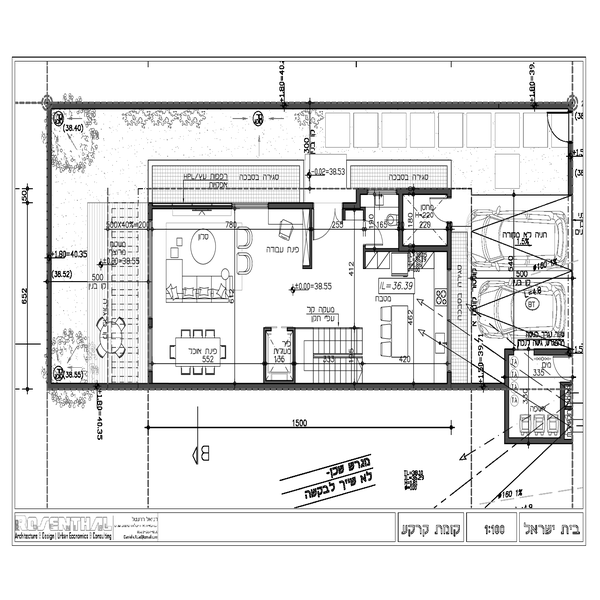door: (310, 204, 348, 244), (545, 107, 575, 144), (428, 199, 461, 226), (553, 350, 577, 385), (362, 218, 386, 245)
room: (145, 194, 322, 393), (310, 186, 458, 393), (495, 337, 577, 445)
wall: (49, 373, 502, 394), (47, 99, 570, 111), (39, 98, 60, 391), (501, 348, 516, 445), (505, 434, 573, 450), (397, 239, 453, 257), (530, 343, 574, 361), (397, 183, 408, 253), (394, 188, 454, 200), (270, 200, 316, 214), (307, 203, 316, 273), (442, 218, 452, 250)
